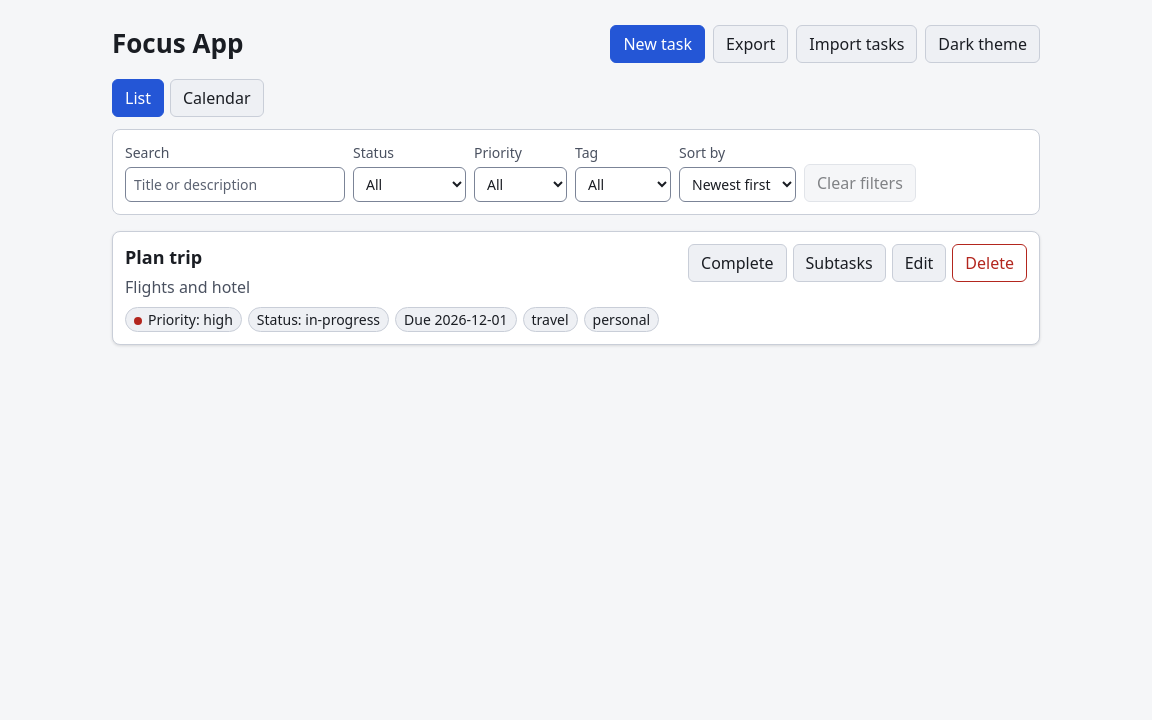
Test: edit in the shared modal › opens a dialog titled Edit task with every field pre-filled
Click the button with aria-label "Edit Plan trip": (919, 263) left=892, top=244, right=946, bottom=282
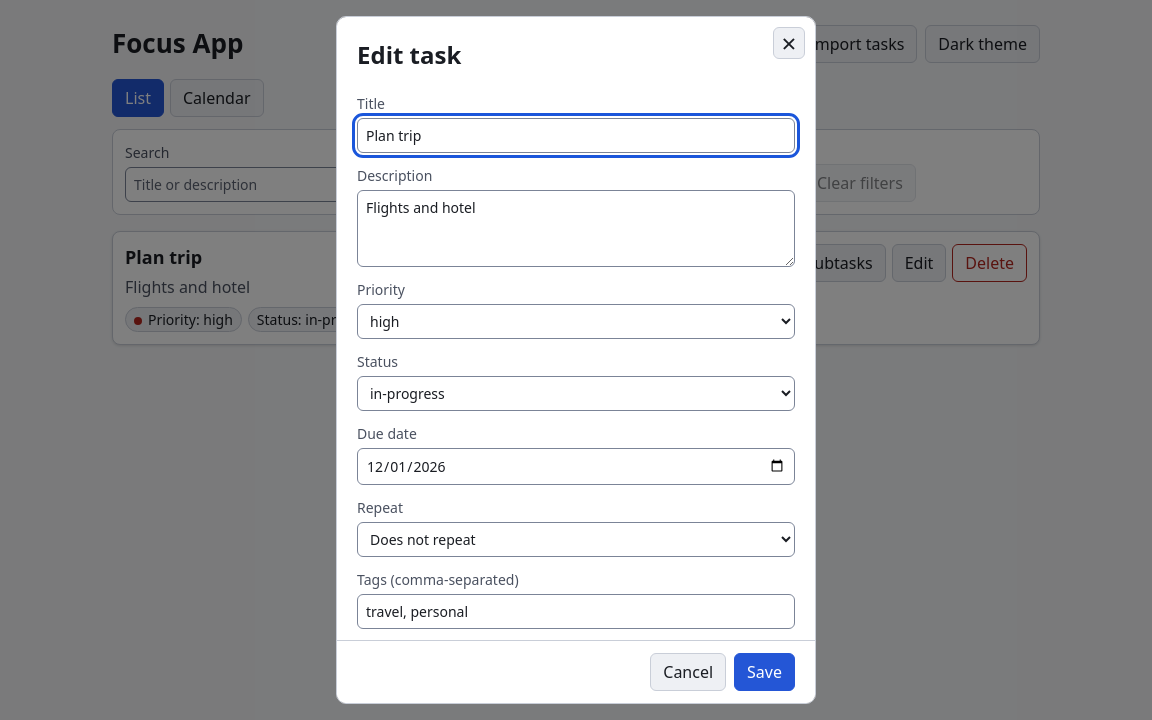
Now the field labelled "Title" holds "Plan trip", box left=357, top=118, right=795, bottom=153
Now the text box labelled "Description" holds "Flights and hotel", box left=357, top=190, right=795, bottom=267
Now the dropdown labelled "Priority" shows "high", box left=357, top=304, right=795, bottom=339
